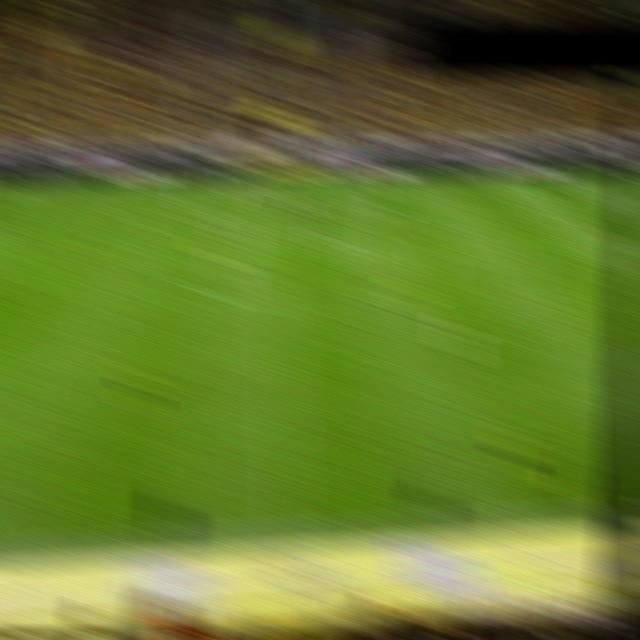bigarea_top_inner: (535, 192, 568, 210)
corner: (602, 166, 635, 184)
halfcircle_bottom: (262, 293, 297, 312)
halfcircle_top: (259, 223, 294, 243)
midline_bottom_intersection: (270, 516, 307, 540)
midline_top_intersection: (258, 172, 291, 190)
top_arc_area_intersection: (581, 222, 614, 241)
